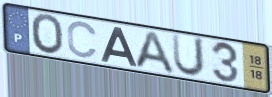3: (209, 41, 240, 85)
A: (131, 29, 177, 76), (99, 25, 139, 69)
C: (66, 20, 100, 60)
O: (30, 13, 66, 57)
U: (170, 32, 207, 80)
